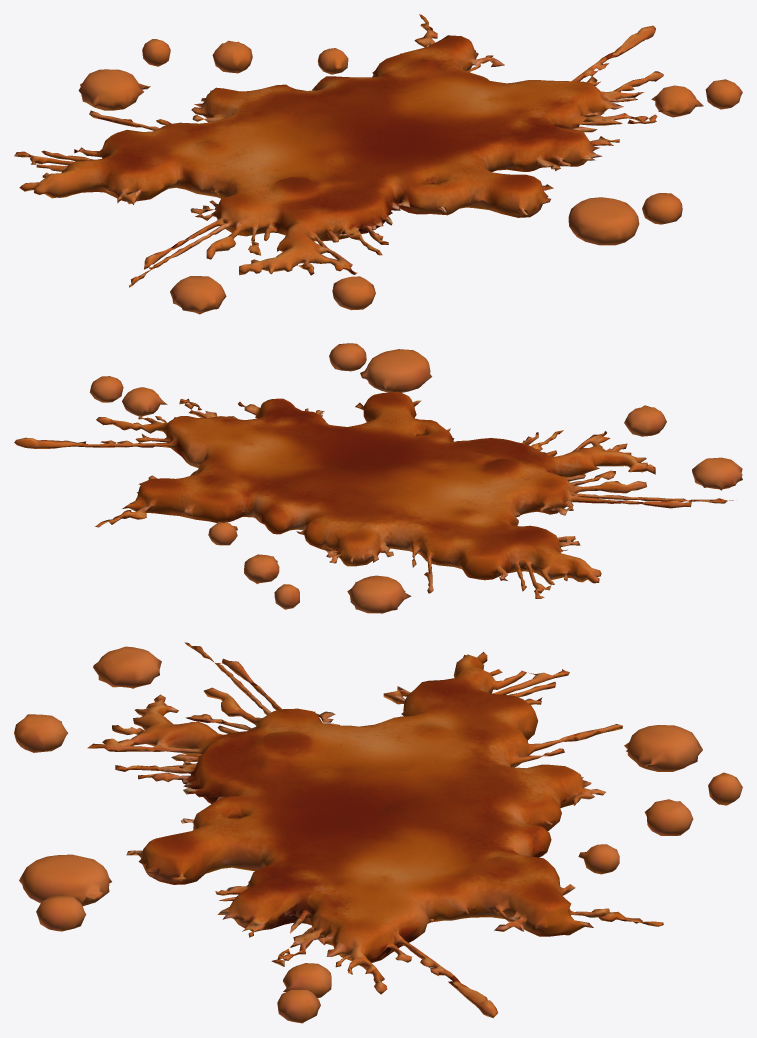
File: Meshy_AI_Coffee_Burst_0102213419_texture.fbx
3 renders of one model, top to bottom at view 1: azimuth 30°, elevation 25°; view 2: azimuth 150°, elevation 25°; view 3: azimuth 270°, elevation 25°, orthographic. The views are drawn at different scales.
Parts seen in each view (by area): view 1: Mesh_0; view 2: Mesh_0; view 3: Mesh_0.
Boxes of the visible parts, x1=… form: Mesh_0: x1=14, y1=14, x2=742, y2=314; Mesh_0: x1=14, y1=343, x2=742, y2=613; Mesh_0: x1=14, y1=642, x2=742, y2=1023.
Size of the model in its own units: 190 by 11.08 by 157.
Materials: 1 (1 with a texture image).
